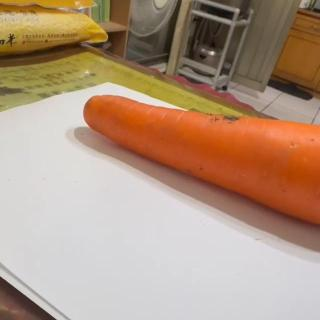carrot: (82, 93, 320, 230)
